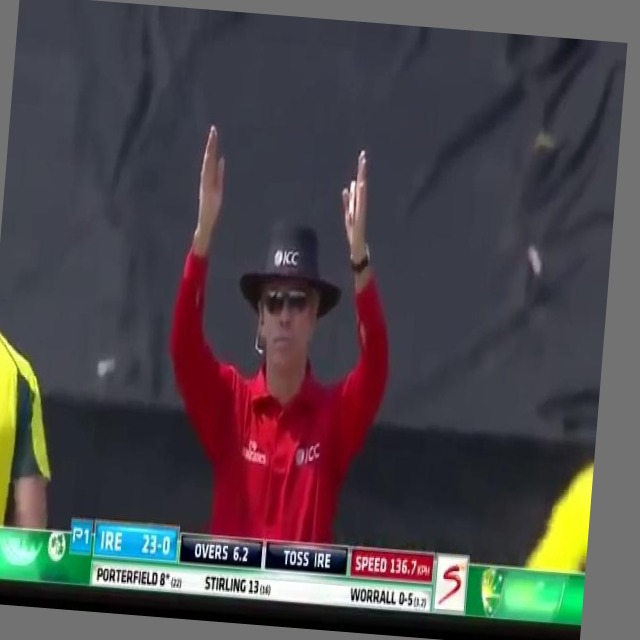Six: (151, 103, 408, 553)
